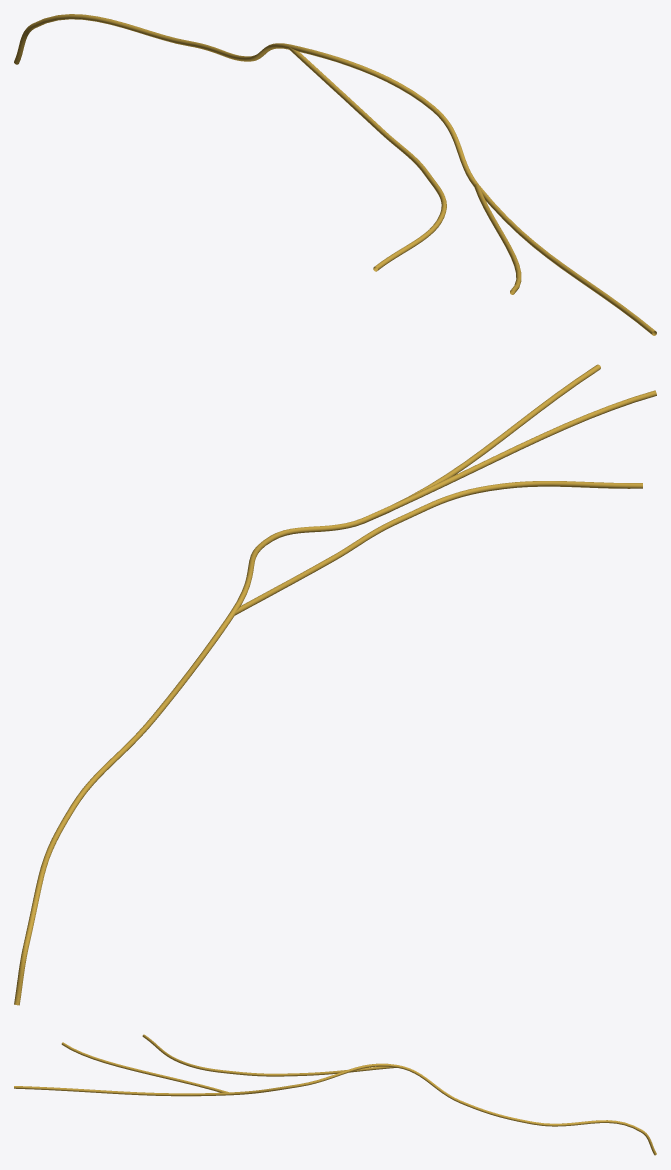
The picture shows the model from 3 angles, top to bottom: view 1: azimuth 30°, elevation 25°; view 2: azimuth 150°, elevation 25°; view 3: azimuth 270°, elevation 25°; orthographic projection. The views are drawn at different scales.
Parts seen in each view (by area): view 1: 左侧闭孔神经; view 2: 左侧闭孔神经; view 3: 左侧闭孔神经.
Part boxes in pixels (x1,y1,x2,y2): 左侧闭孔神经: (14,14,656,335); 左侧闭孔神经: (14,364,656,1005); 左侧闭孔神经: (14,1034,656,1155).
Size of the model in its own units: 0.0644 by 0.0571 by 0.3213.
